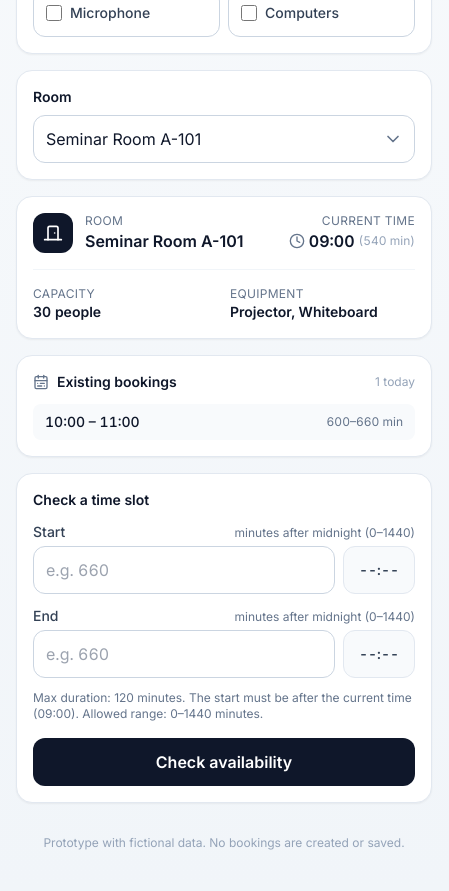
Test case: explain availability in the app › shows the fallback label on adapter failure and leaves the status unchanged
(page scrolled)
In the field labelled "Start": (184, 570) left=33, top=546, right=335, bottom=594, type "570"
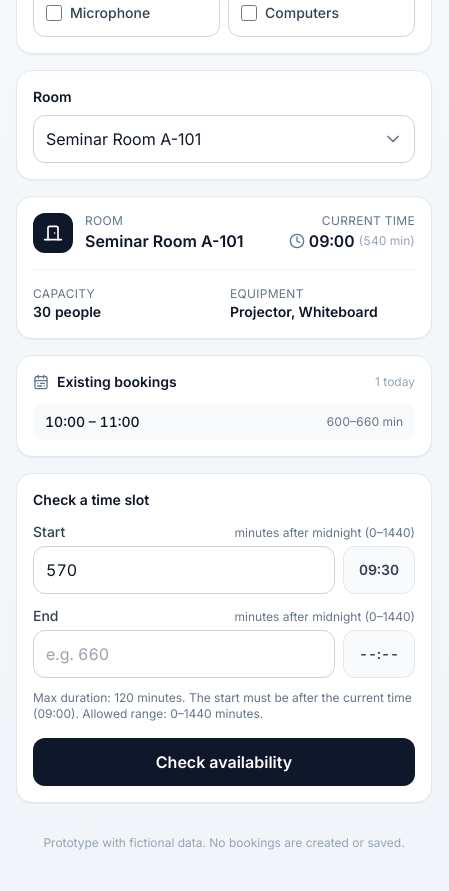
In the field labelled "End": (184, 654) left=33, top=630, right=335, bottom=678, type "600"
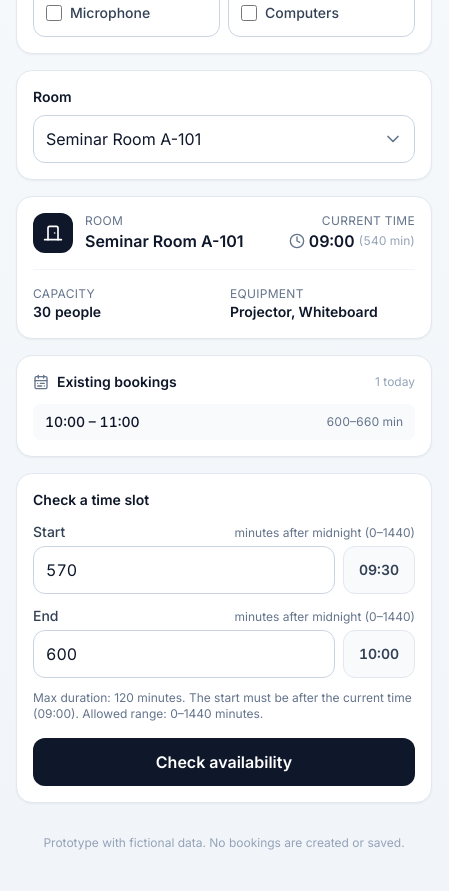
Click the button "Check availability": (224, 762) left=33, top=738, right=415, bottom=786
(page scrolled)
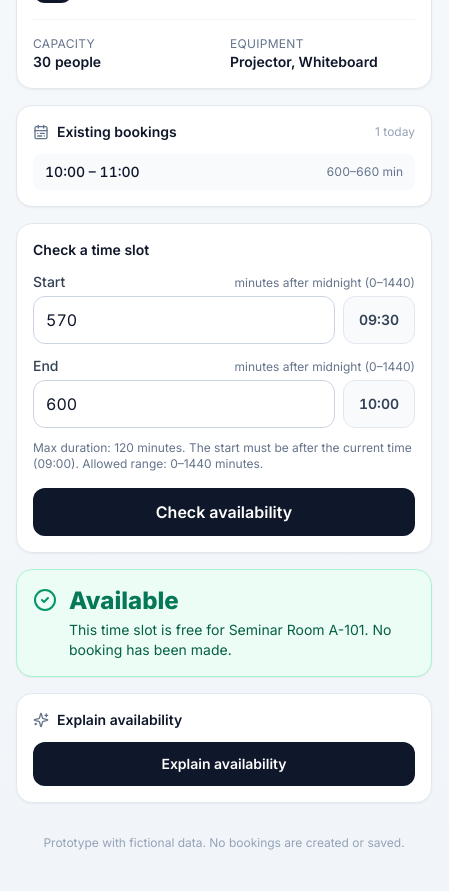
Expected: the text "Available" is shown, left=69, top=586, right=179, bottom=615
Click the button "Explain availability": (224, 764) left=33, top=742, right=415, bottom=786
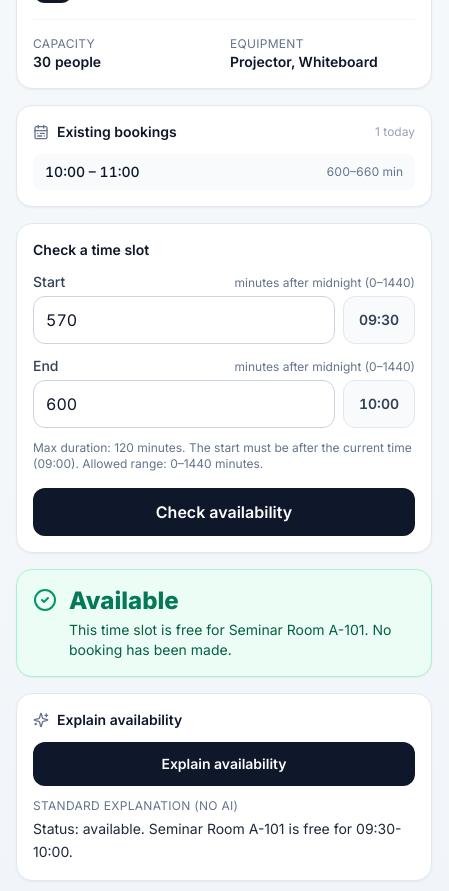
Expected: the text "Available" is shown, left=69, top=586, right=179, bottom=615
Expected: the text "Standard explanation (no AI)" is shown, left=33, top=798, right=238, bottom=813
